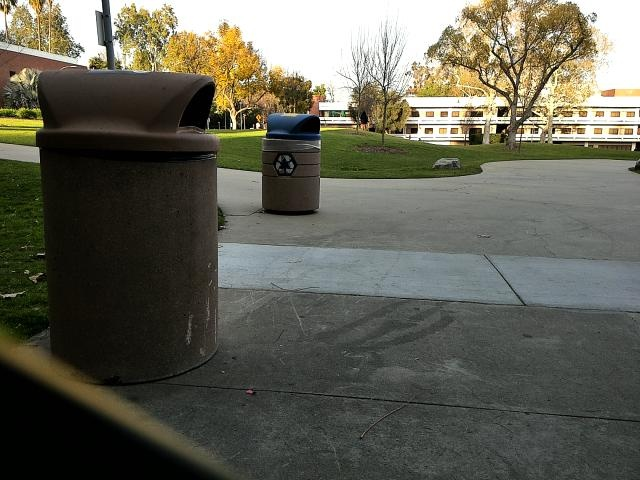trashcan: (31, 66, 226, 393), (261, 110, 322, 226)
